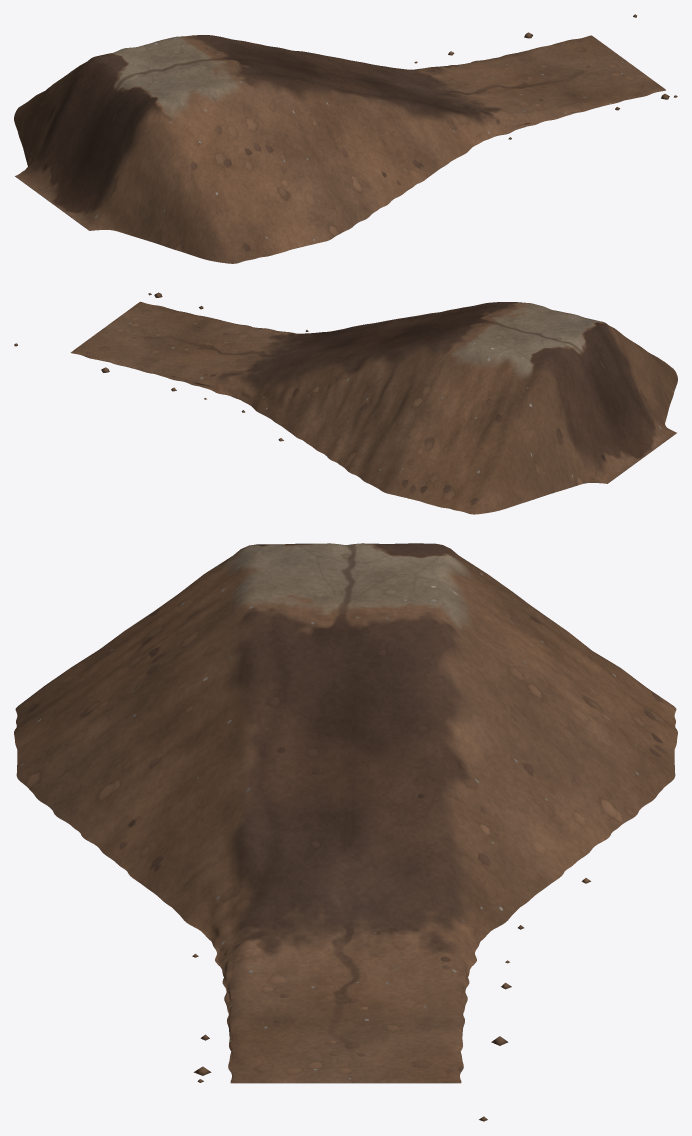
The model's file is DR_Prop_ScrubLanding.fbx.
The picture shows the model from 3 angles, top to bottom: view 1: azimuth 30°, elevation 25°; view 2: azimuth 150°, elevation 25°; view 3: azimuth 270°, elevation 25°; orthographic projection. The views are drawn at different scales.
Parts seen in each view (by area): view 1: DR_Prop_ScrubLanding; view 2: DR_Prop_ScrubLanding; view 3: DR_Prop_ScrubLanding.
Boxes of the visible parts, x1,y1,x2,y2 form: DR_Prop_ScrubLanding: (14,14,677,263); DR_Prop_ScrubLanding: (14,292,677,514); DR_Prop_ScrubLanding: (14,543,677,1121).
Size of the model in its own units: 4.45 by 0.7232 by 2.64.
Materials: 1 (1 with a texture image).
